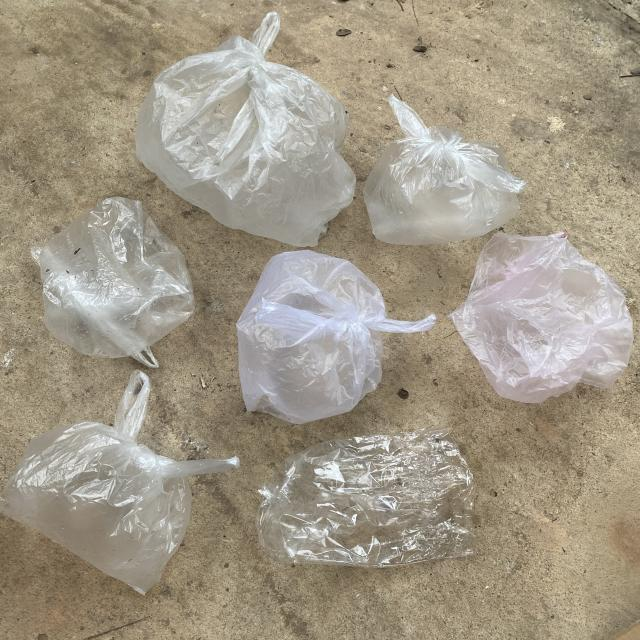Single-layer Plastic: (0, 370, 239, 594), (136, 11, 355, 246), (236, 250, 436, 424), (449, 232, 634, 402), (256, 429, 474, 568), (31, 198, 195, 368), (364, 95, 525, 245)
